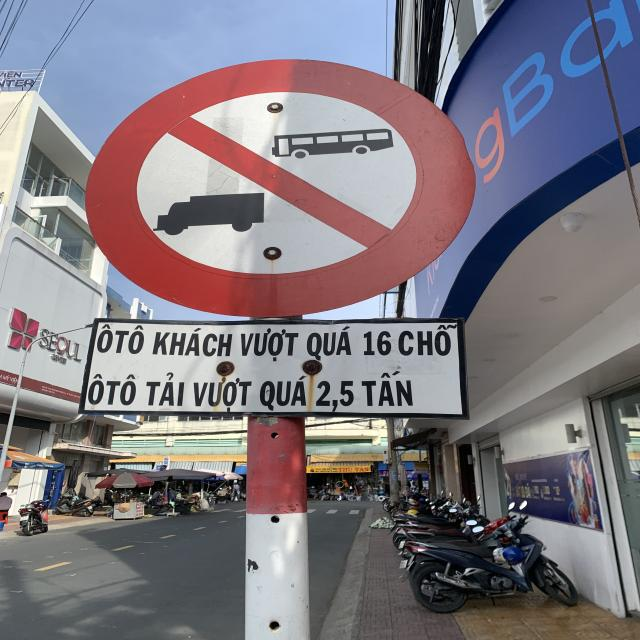Cam_XeTai_XeKhach: (87, 59, 476, 320)
